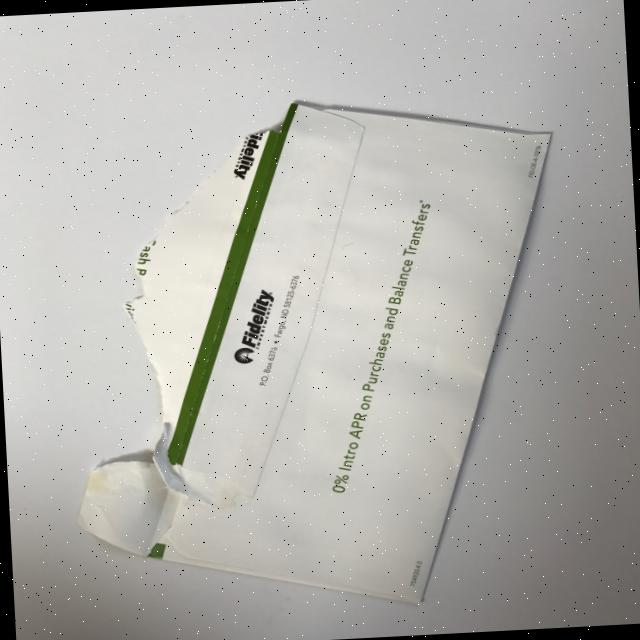paper: (57, 88, 578, 622)
